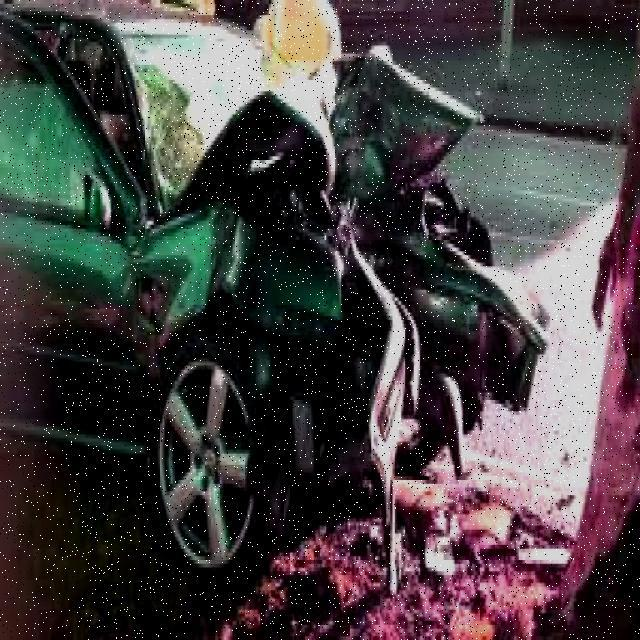car damage: (132, 5, 541, 592)
